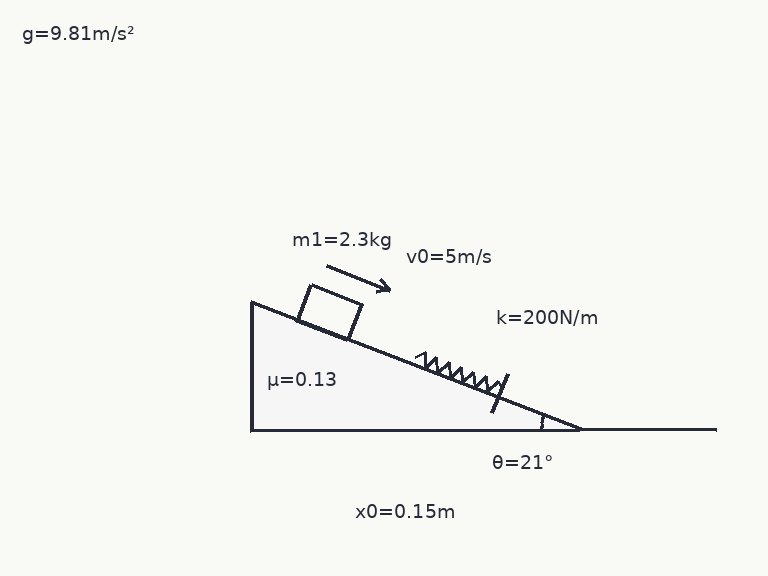block: (295, 283, 363, 342)
ramp: (249, 301, 583, 432)
spring: (414, 351, 504, 394)
